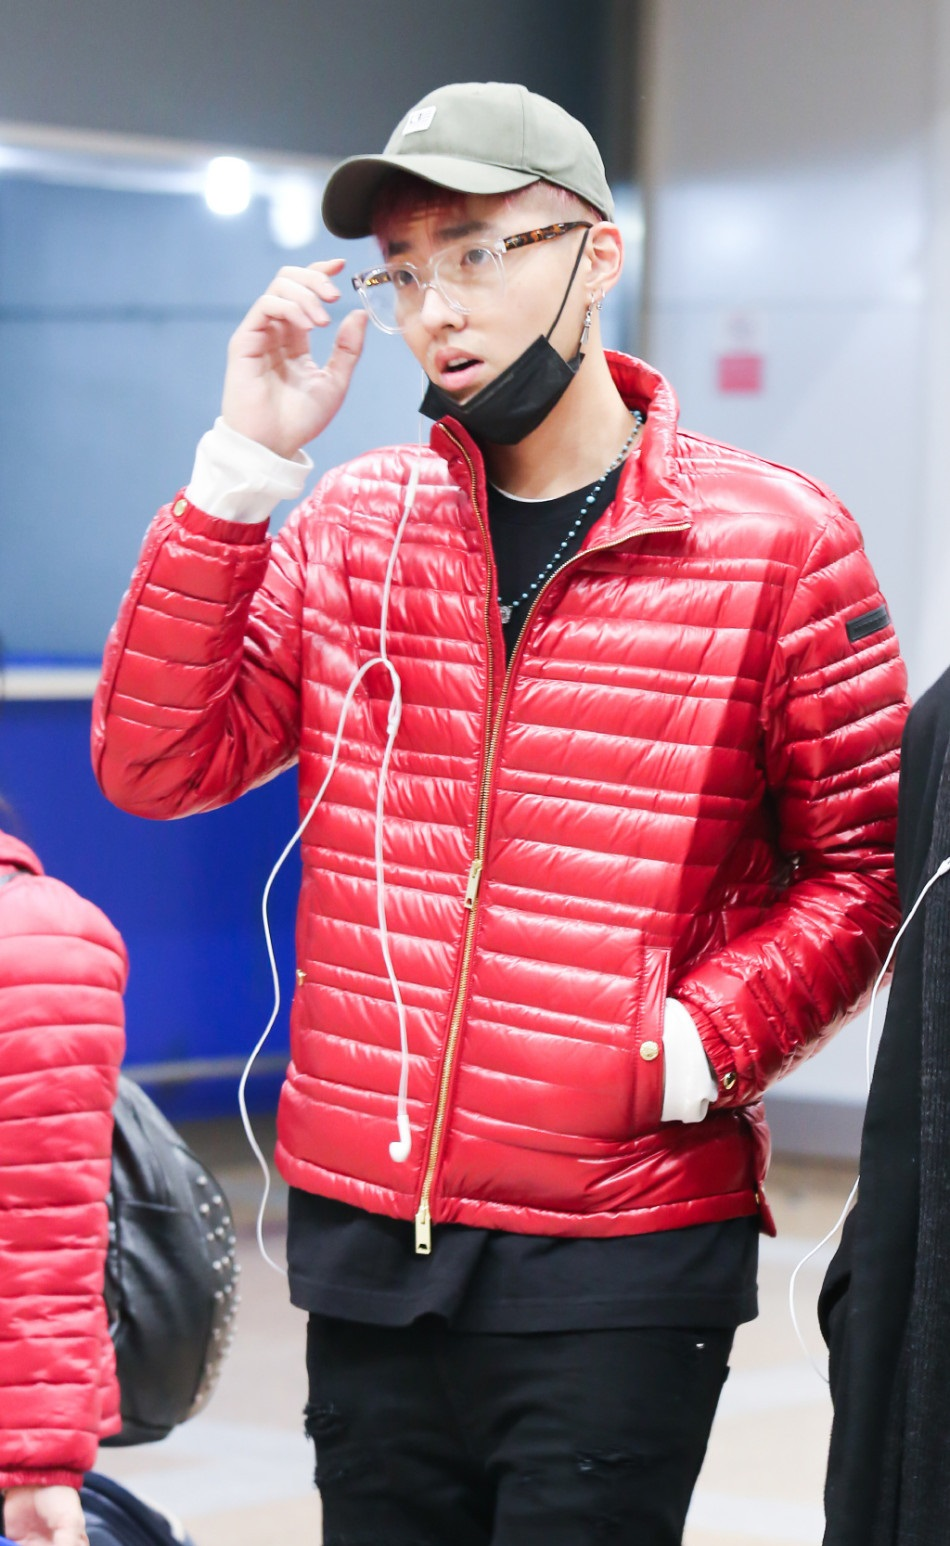face: (381, 142, 577, 429)
